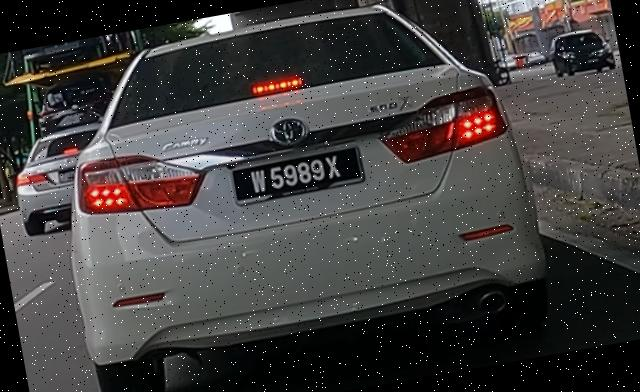License_Plate: (229, 144, 367, 208)
car: (34, 1, 562, 392)
